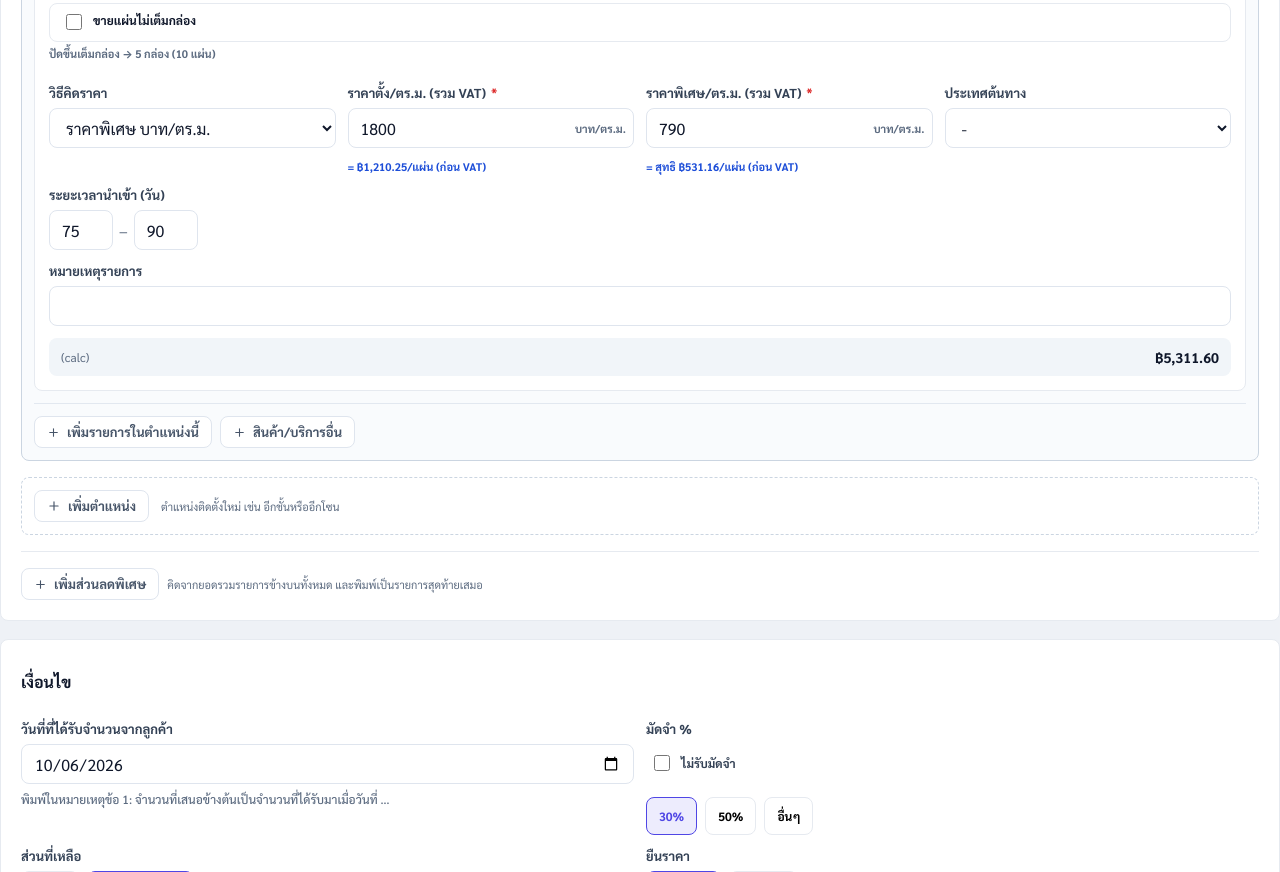
it: one row at a time › a new row on a mixed document starts in the mode of the row before it
The image size is (1280, 872).
(page scrolled)
Step 1. Click the button "เพิ่มรายการในตำแหน่งนี้" → (123, 432), box [34,416,212,448]
(page scrolled)
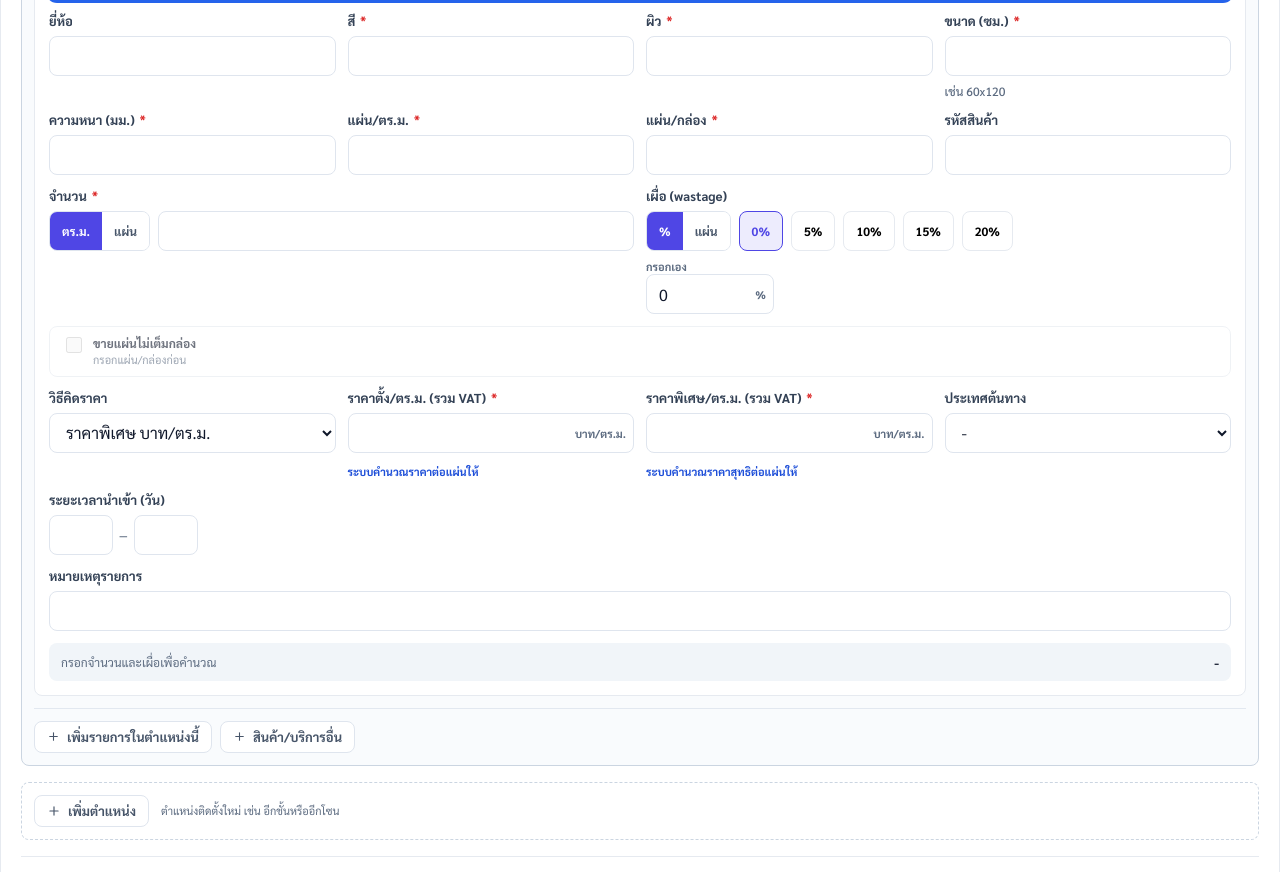
Check: the dropdown labelled "วิธีคิดราคา" shows "ราคาพิเศษ บาท/ตร.ม.", box [49,413,336,453]
Check: the number field with id "special-2" is shown, box [646,413,932,453]
